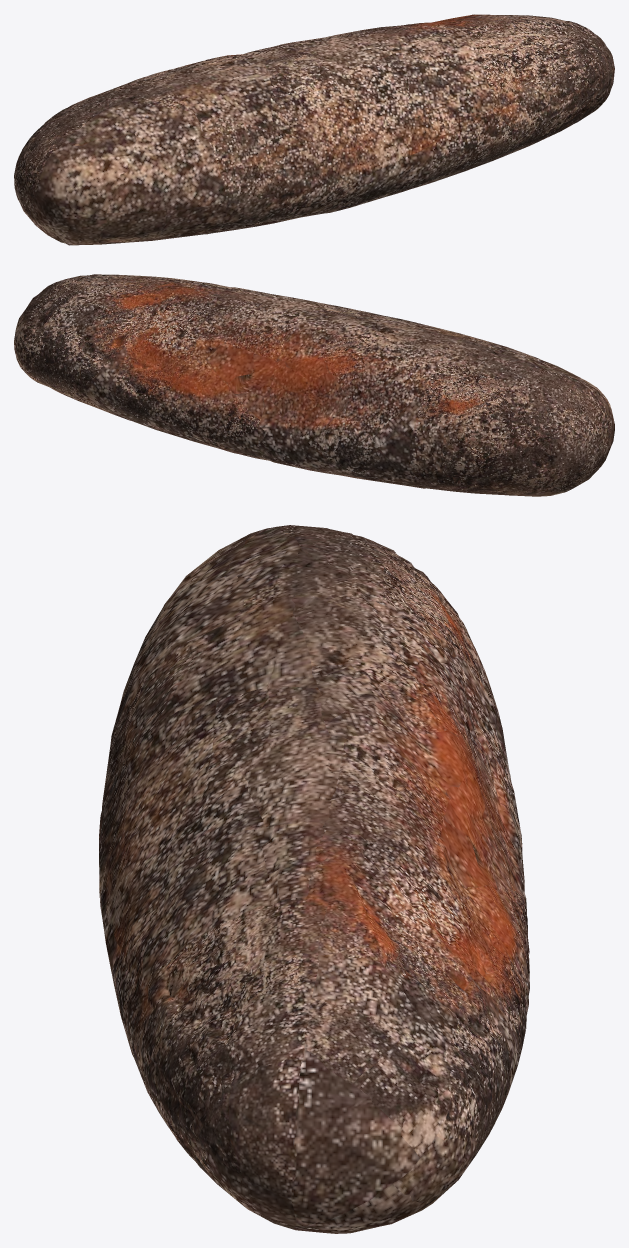
Rendered from rusted-relic.glb.
3 renders of one model, top to bottom at view 1: azimuth 30°, elevation 25°; view 2: azimuth 150°, elevation 25°; view 3: azimuth 270°, elevation 25°, orthographic. The views are drawn at different scales.
Size of the model in its own units: 1.9 by 0.4094 by 0.6213.
Materials: 1 (1 with a texture image).
